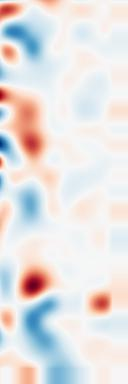filament: (5, 92, 58, 168)
